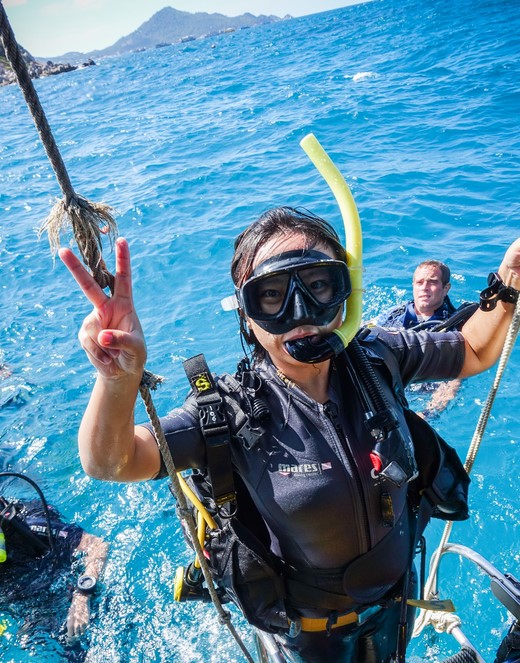face_no_mask: (411, 259, 452, 314)
